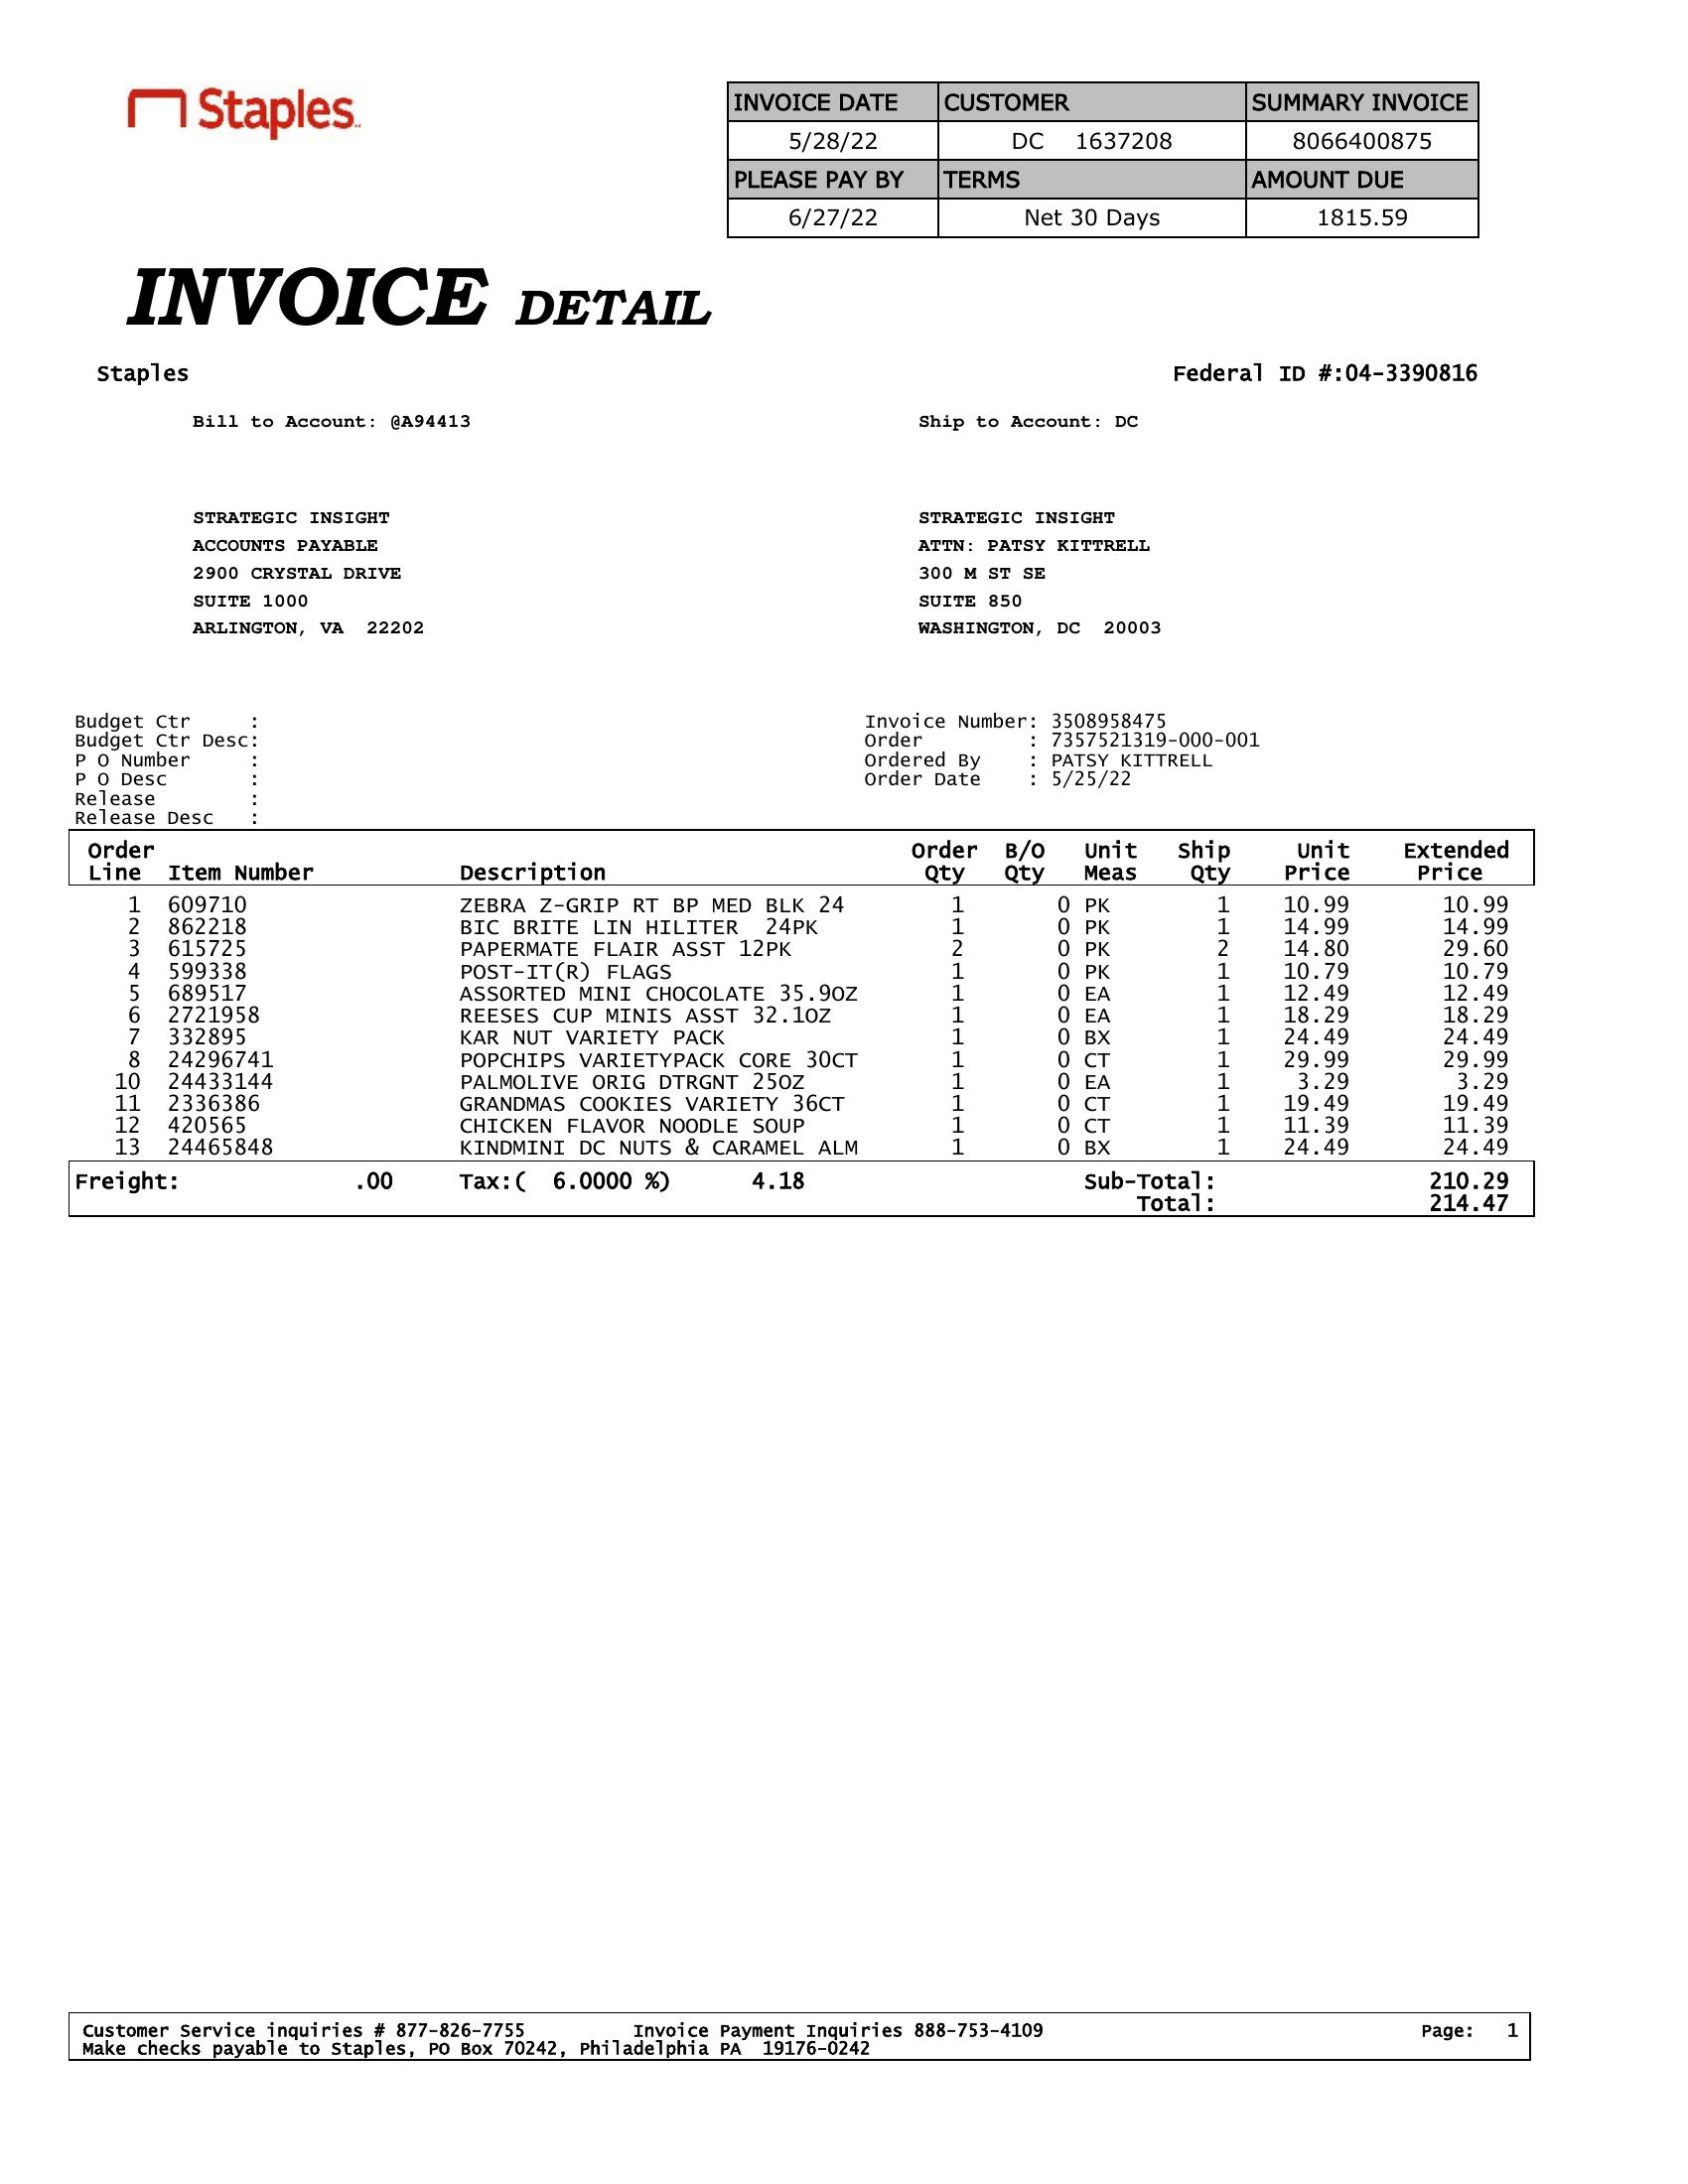table: (62, 830, 1543, 1163), (720, 69, 1495, 245)
